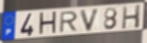4: (20, 12, 35, 37)
8: (103, 7, 118, 31)
H: (121, 4, 143, 30), (38, 11, 58, 37)
R: (58, 10, 80, 34)
V: (80, 7, 102, 33)
